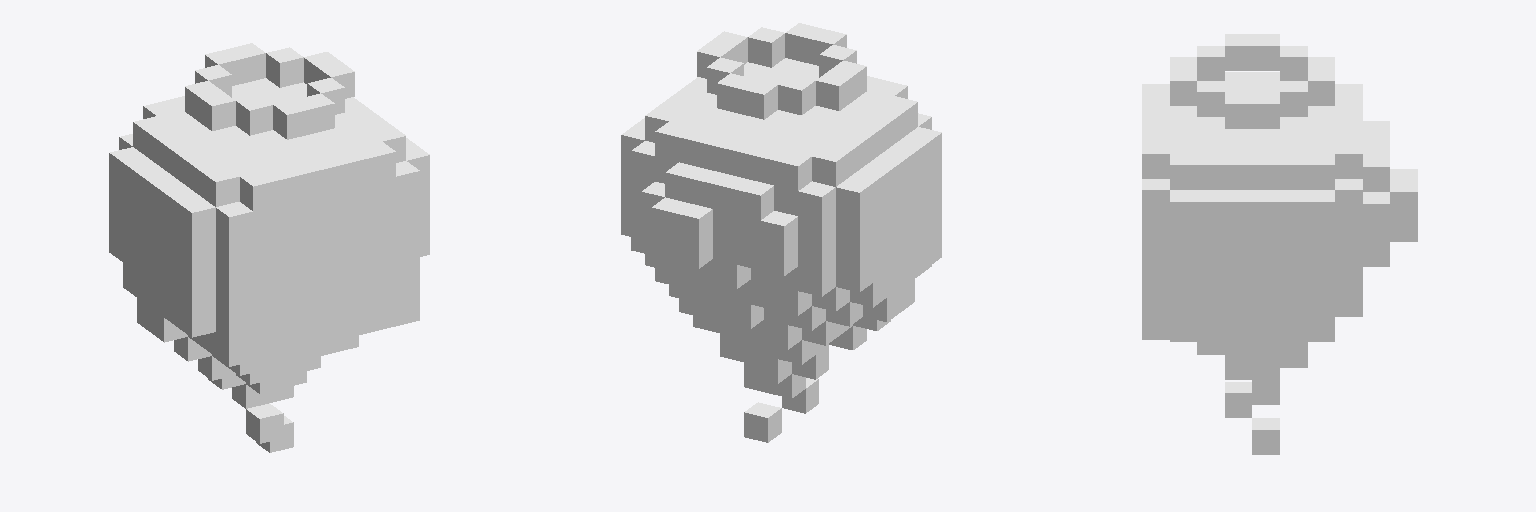
File: monster-neutral.obj
3 views of the same model, side by side, from view 1: azimuth 30°, elevation 25°; view 2: azimuth 150°, elevation 25°; view 3: azimuth 270°, elevation 25° (orthographic).
Size of the model in its own units: 10 by 15 by 10.